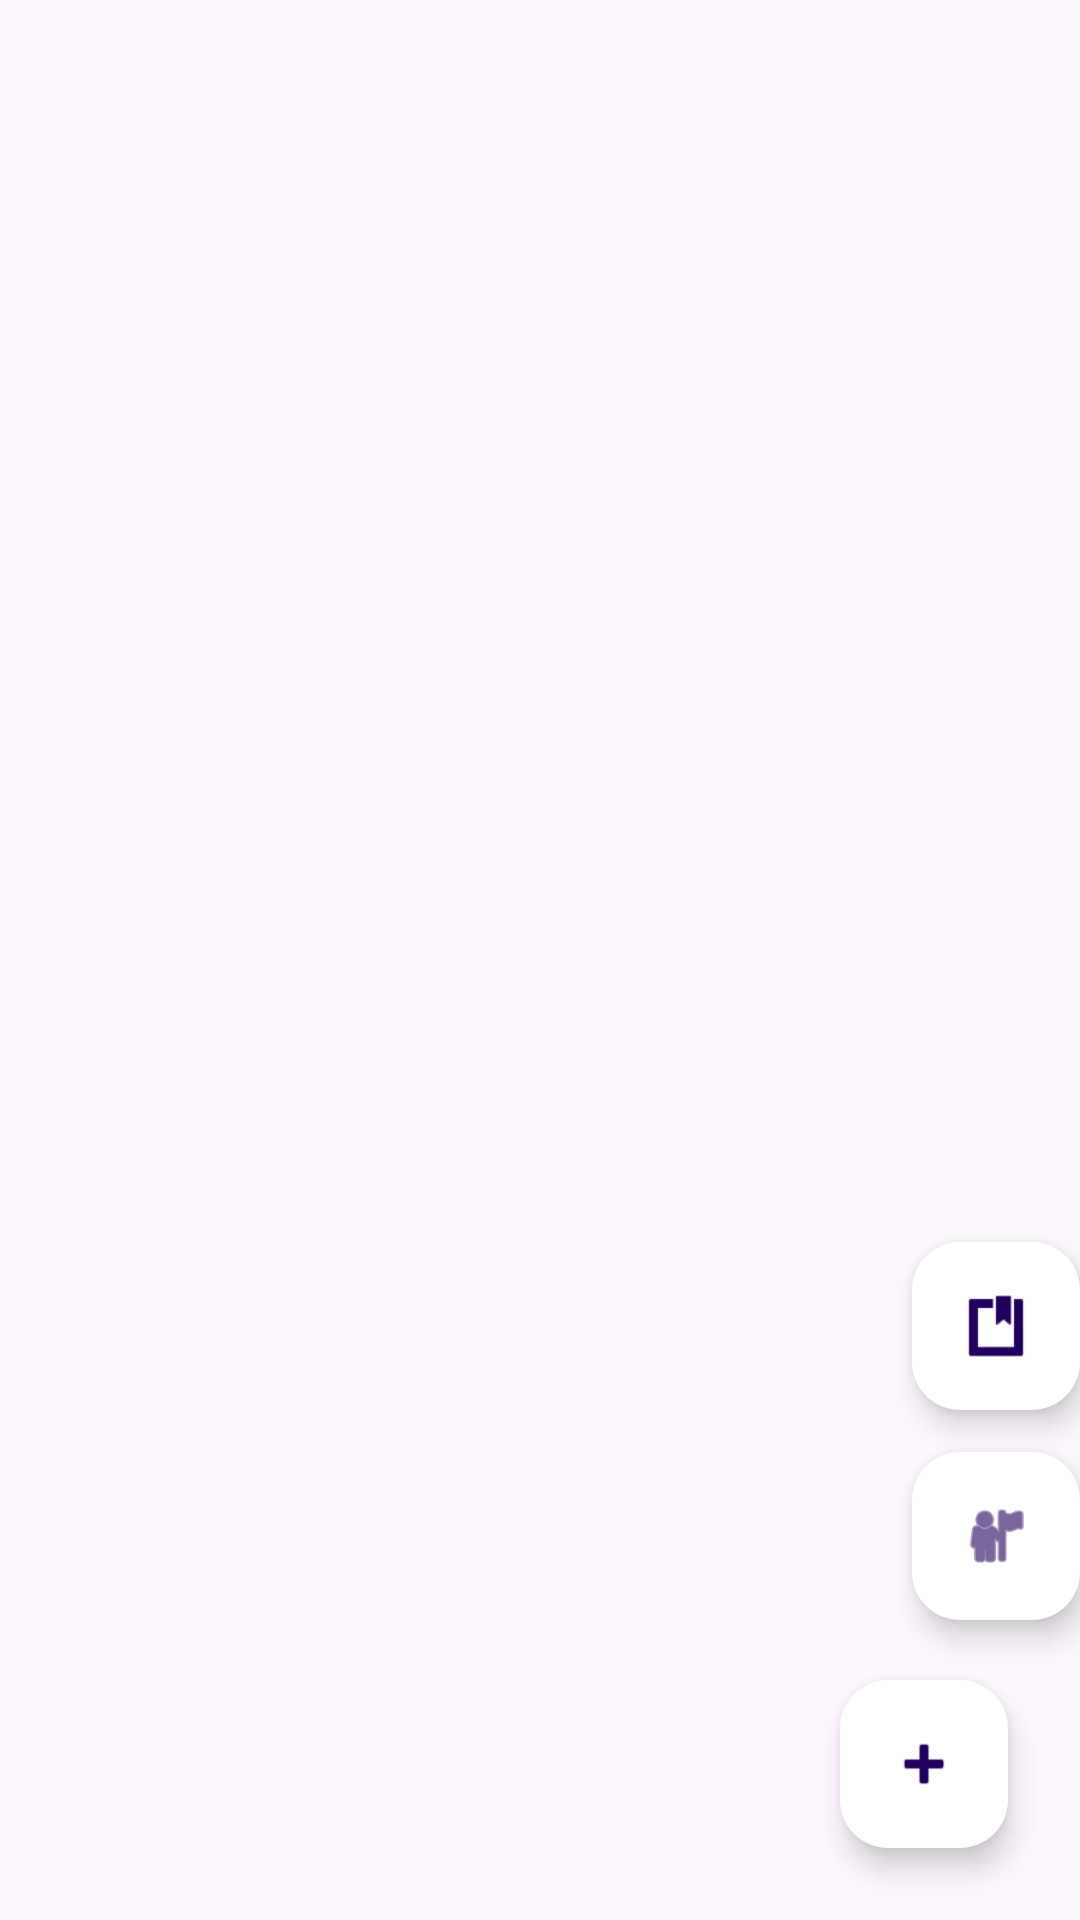

Icons on this 1080×1920 Android screen, each with the point to tap as (x,y):
Botón Principal: (924,1764)
Perfil: (997,1536)
Registro: (996,1326)
